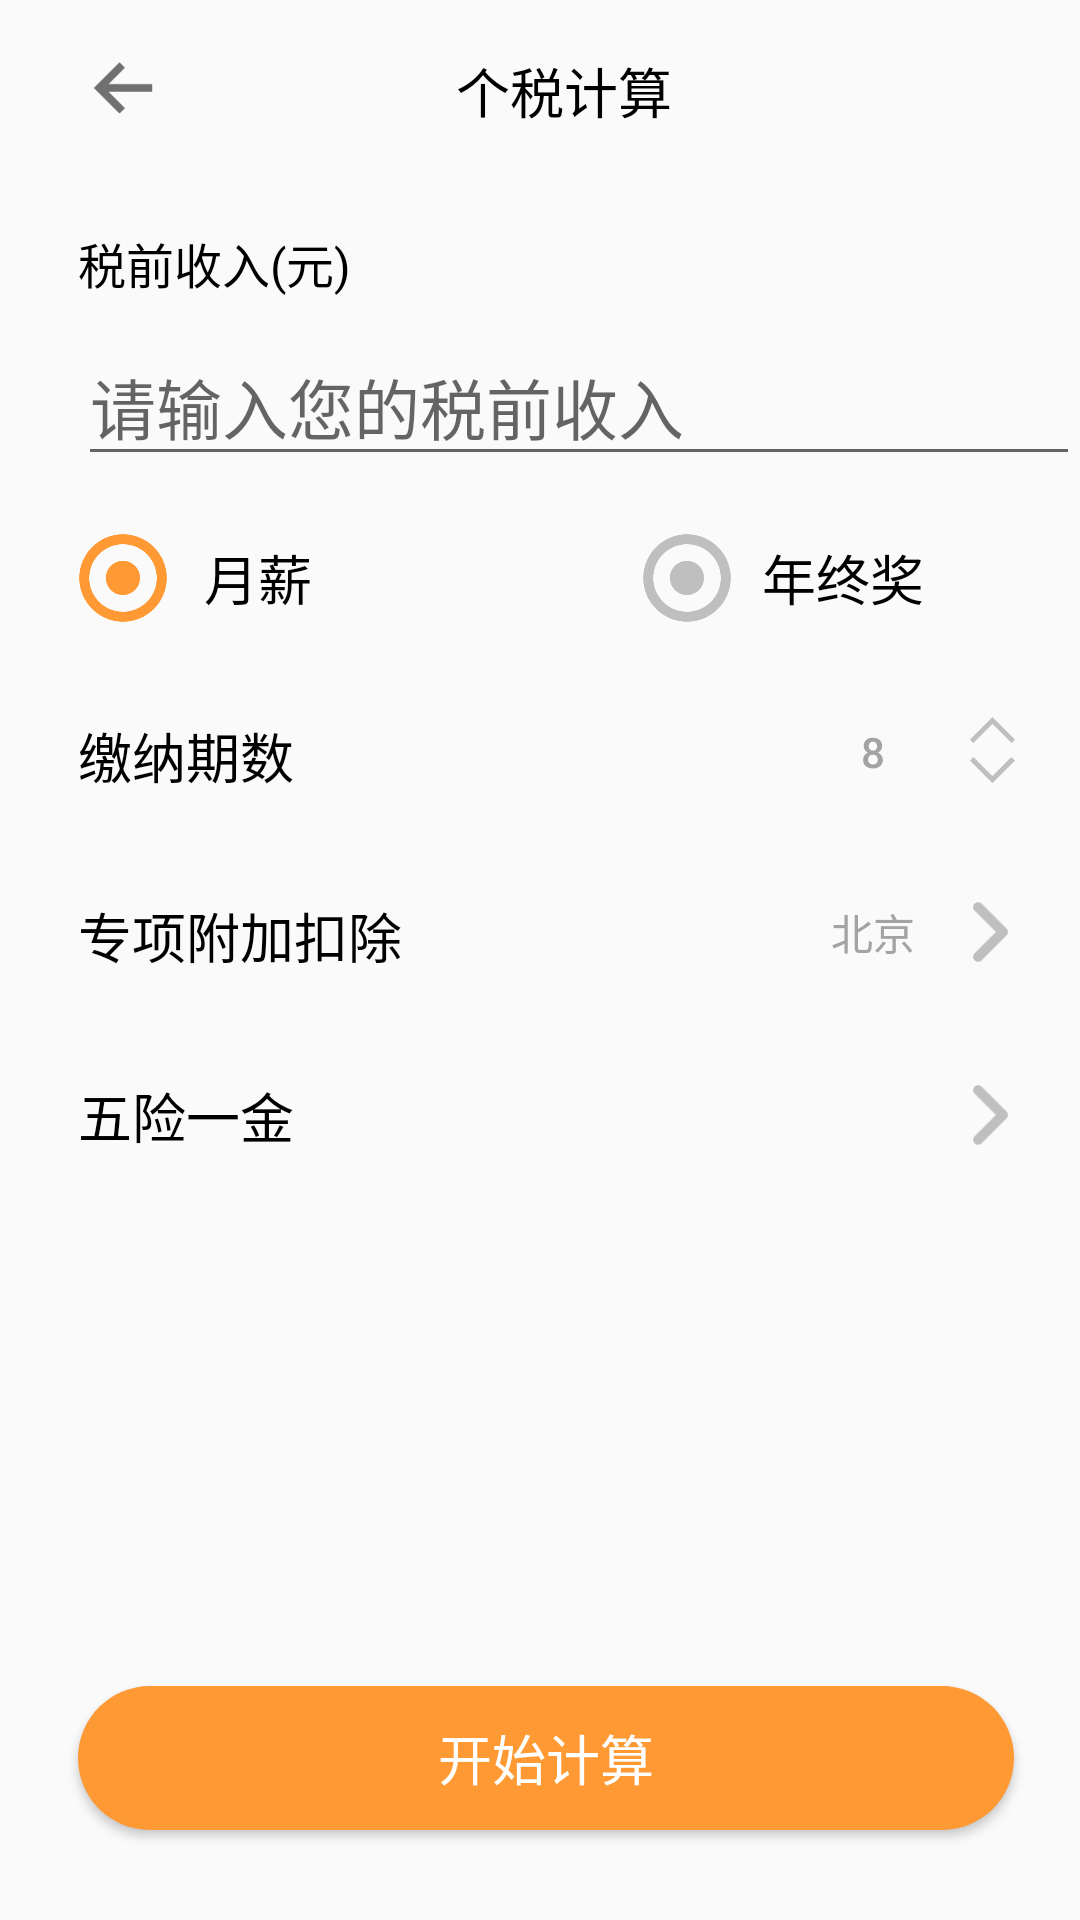

Screen size 1080w x 1920h. Icon name, then its box in pixels as (x1, y1, x2, y2):
return: (94, 62, 153, 114)
